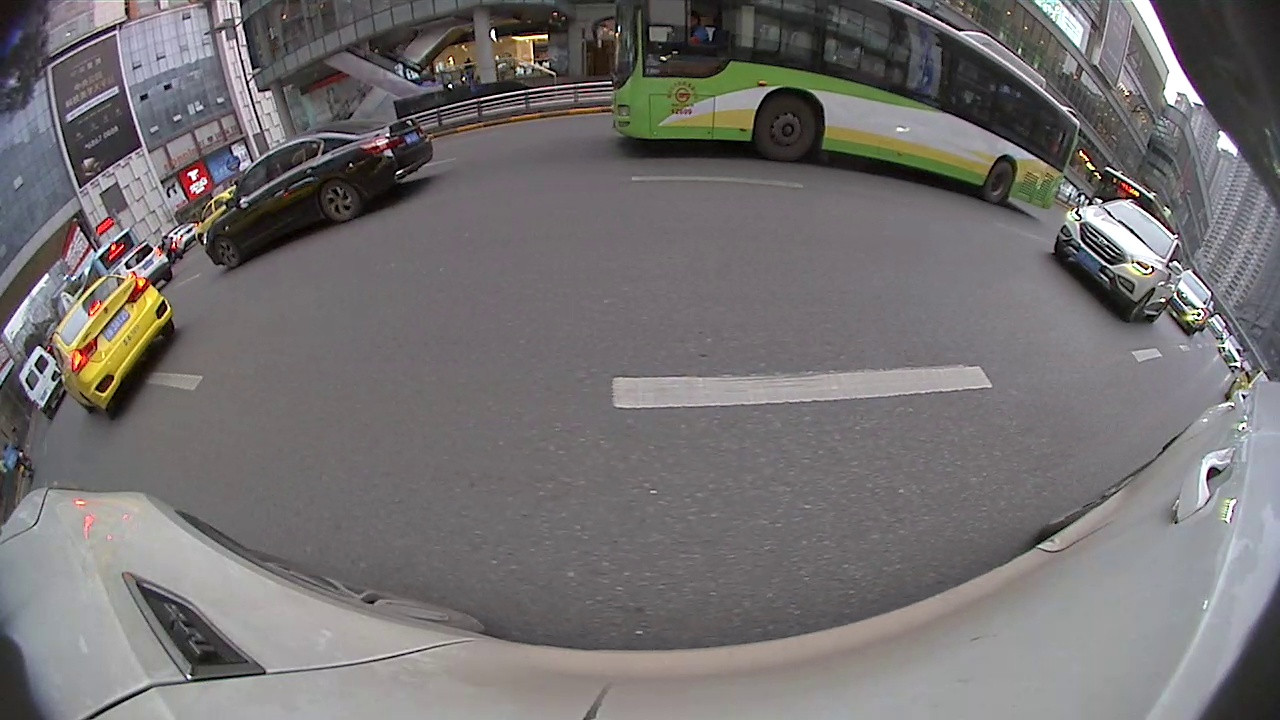bus: (608, 2, 1074, 211), (84, 230, 140, 300)
car: (203, 113, 439, 272), (49, 276, 181, 422), (1050, 204, 1186, 326), (14, 346, 68, 418), (1167, 272, 1219, 338)
front: (754, 94, 815, 164), (1126, 287, 1157, 324), (214, 238, 243, 271)
rear: (321, 181, 360, 225), (980, 159, 1016, 206)
